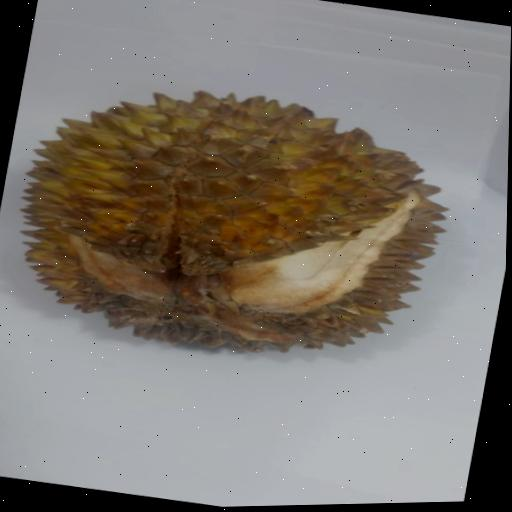rot: (0, 42, 492, 395)
